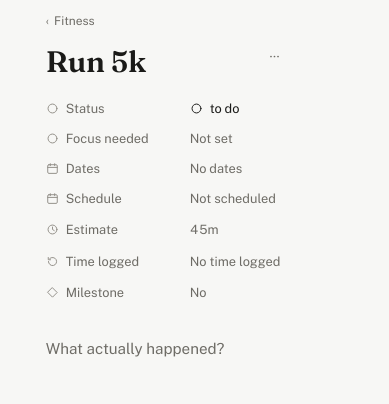
Test case: TaskPage › shows the Blocked field once set to blocked from the popover, and drops it on leaving blocked
What coordinates should you click on to do the following:
click the button with aria-label "Status: "
I would click on:
 (235, 108)
Its box is [184, 95, 286, 122].
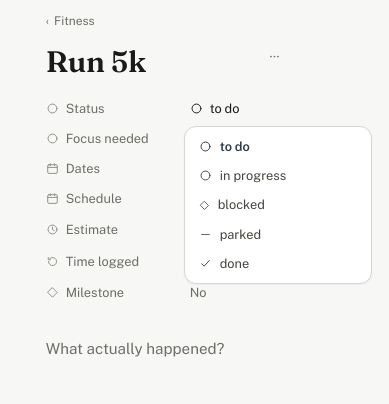
What coordinates should you click on to do the following:
click the menu item "blocked"
I would click on:
 (278, 205)
Its box is [190, 190, 366, 220].
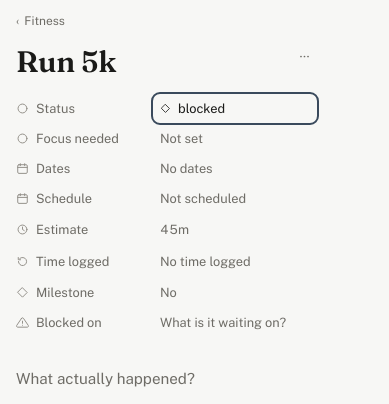
Expected: the text "blocked" is shown, [178, 101, 225, 116]
Expected: the field named "Blocked on" is shown, [154, 309, 316, 336]
What coordinates should you click on to do the following:
click the button with aria-label "Status: "
I would click on:
 (235, 108)
Its box is [154, 95, 316, 122].
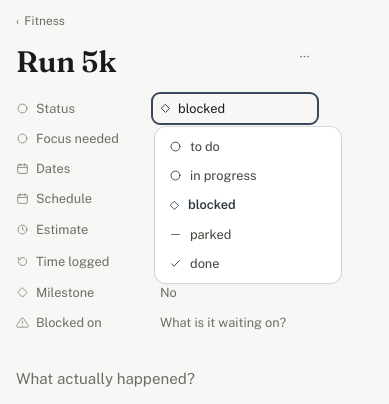
What coordinates should you click on to do the following:
click the menu item "to do"
I would click on:
 (248, 147)
Its box is [160, 132, 336, 161].
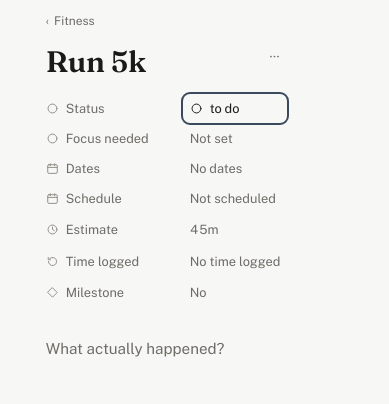
Expected: the text labelled "Blocked on" is gone
